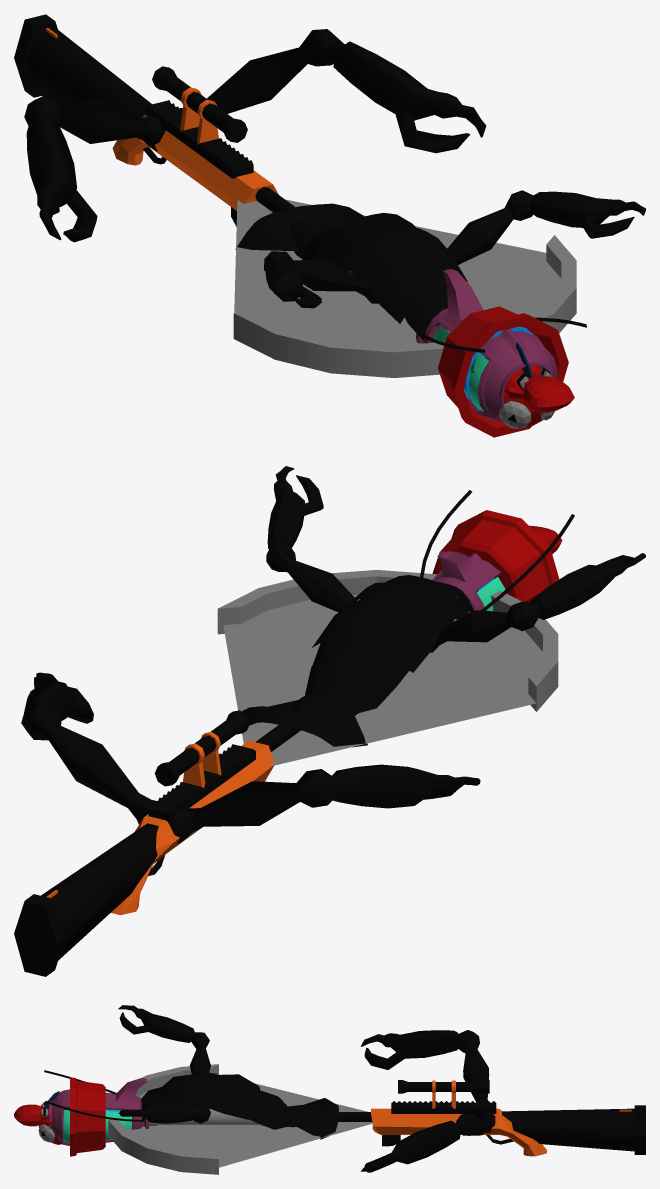
File: Weapon_Sniper.fbx
The picture shows the model from 3 angles, top to bottom: view 1: azimuth 30°, elevation 25°; view 2: azimuth 150°, elevation 25°; view 3: azimuth 270°, elevation 25°; orthographic projection. The views are drawn at different scales.
Parts seen in each view (by area): view 1: Module_Ideal, Sniper, Module_Rebondissant, Module_Gros_Projectile, Module_Explosif; view 2: Module_Ideal, Sniper, Module_Gros_Projectile, Module_Rebondissant; view 3: Module_Ideal, Sniper, Module_Gros_Projectile, Module_Rebondissant, Module_Explosif.
Part boxes in pixels (left/top/right/bottom): Module_Ideal: left=24, top=29, right=645, bottom=377; Sniper: left=14, top=14, right=306, bottom=226; Module_Rebondissant: left=416, top=269, right=574, bottom=422; Module_Gros_Projectile: left=348, top=270, right=568, bottom=437; Module_Explosif: left=450, top=326, right=554, bottom=428; Module_Ideal: left=21, top=466, right=645, bottom=843; Sniper: left=14, top=710, right=300, bottom=976; Module_Gros_Projectile: left=432, top=510, right=559, bottom=626; Module_Rebondissant: left=432, top=525, right=562, bottom=613; Module_Ideal: left=44, top=1005, right=495, bottom=1174; Sniper: left=319, top=1080, right=645, bottom=1156; Module_Gros_Projectile: left=70, top=1077, right=263, bottom=1156; Module_Rebondissant: left=14, top=1078, right=148, bottom=1145; Module_Explosif: left=38, top=1091, right=121, bottom=1144.
Bounding box in the file's own units: 72.59 × 24.76 × 150.
